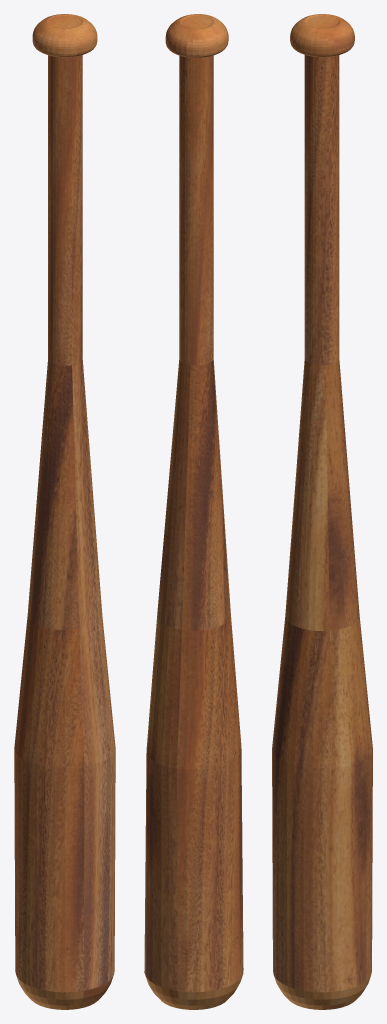
Rendered from Wooden_Bat.fbx.
3 renders of one model, left to right at view 1: azimuth 90°, elevation 25°; view 2: azimuth 150°, elevation 25°; view 3: azimuth 270°, elevation 25°, orthographic.
Visible parts, largest first — view 1: Wooden_Bat; view 2: Wooden_Bat; view 3: Wooden_Bat.
Boxes of the visible parts, bbox=[...] form: Wooden_Bat: bbox=[14, 14, 115, 1009]; Wooden_Bat: bbox=[144, 14, 243, 1009]; Wooden_Bat: bbox=[272, 14, 372, 1009].
Bounding box in the file's own units: 9.81 × 106 × 10.
